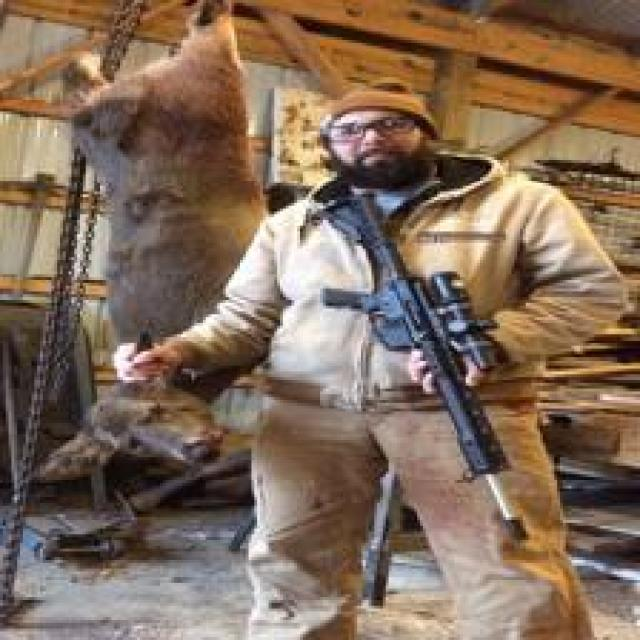Rifle: (323, 178, 533, 543)
